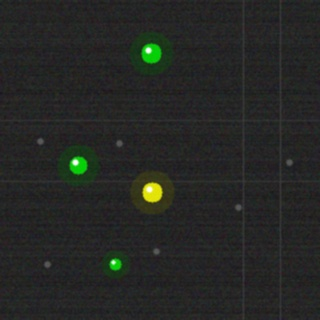green_normal: (139, 41, 163, 65), (67, 154, 89, 176), (107, 256, 123, 272)
yellow_warning: (140, 180, 164, 204)
